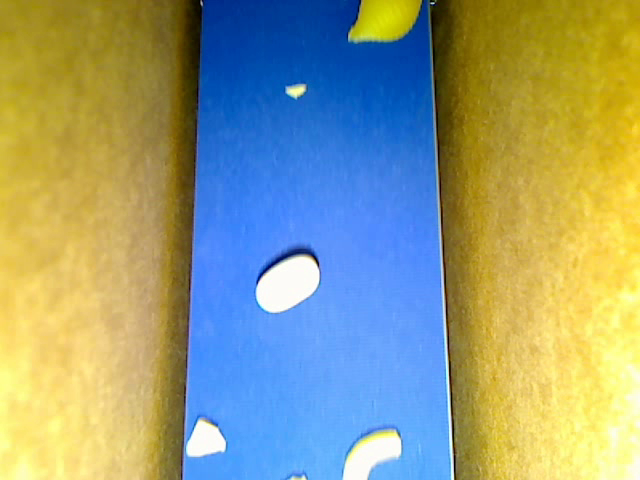elbow: (342, 427, 402, 479)
shell: (346, 1, 421, 43)
